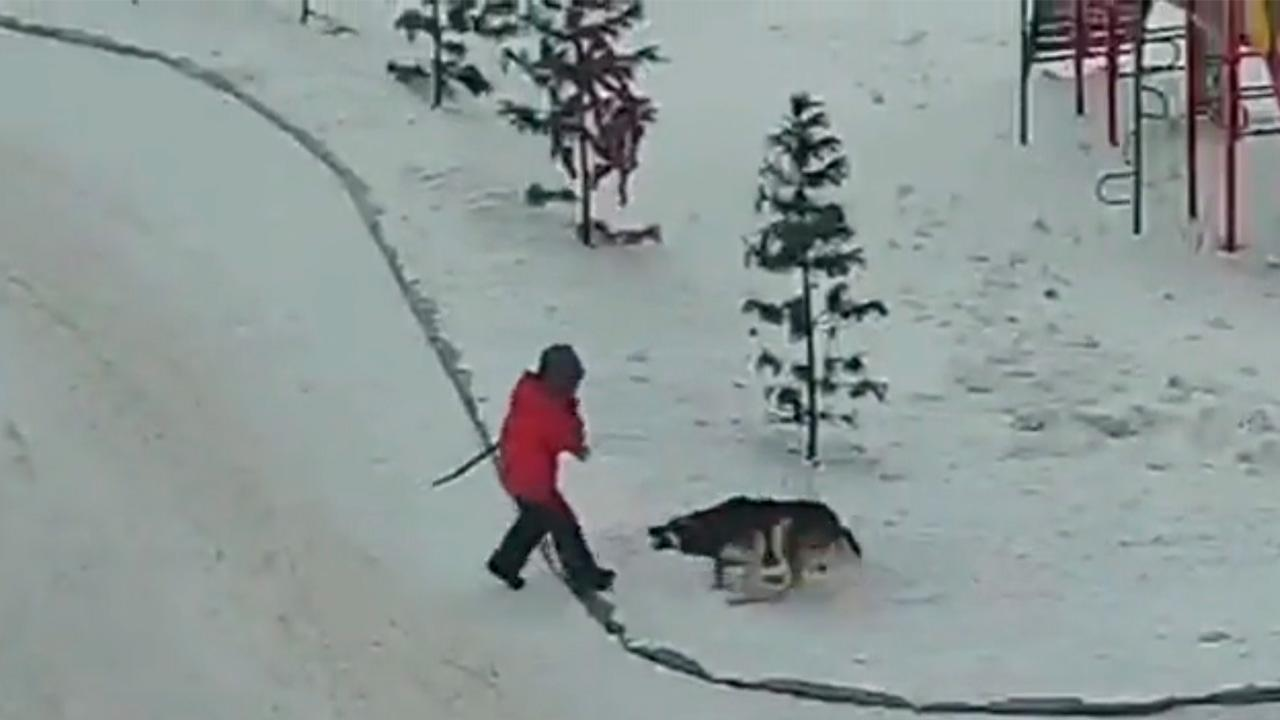dog_aggressive: (645, 492, 862, 608)
